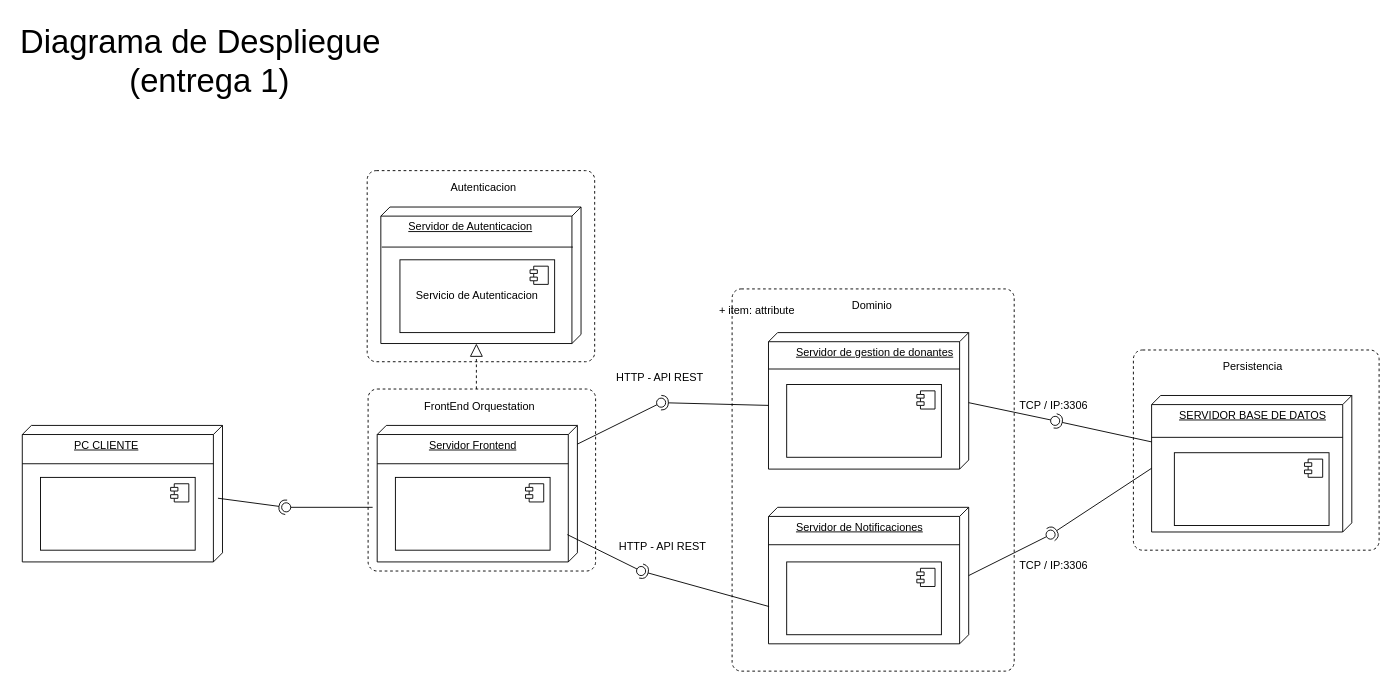
Image size: 1396x687. Some labels were removed from this diagram. The shapes that lost their labels are listed below. From the top down, each one's centre as x and y in pixels, then its label:
At pixel 863 420: "Servicio de donaciones".
At pixel 1251 489: "Motor MYSQL".
At pixel 117 513: "Navegador Web".
At pixel 472 513: "App Frontend".
At pixel 863 598: "Servicio de notificaciones".
